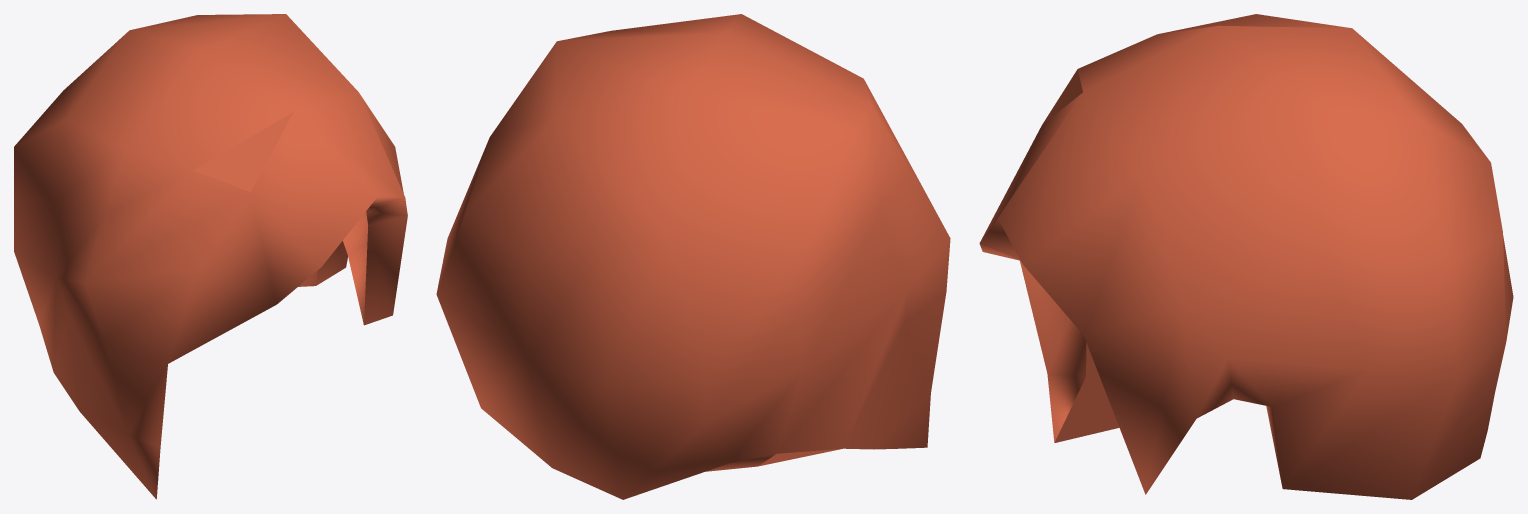
The model's file is HairKarenGinger.fbx.
3 renders of one model, left to right at view 1: azimuth 30°, elevation 25°; view 2: azimuth 150°, elevation 25°; view 3: azimuth 270°, elevation 25°, orthographic. The views are drawn at different scales.
Visible parts, largest first — view 1: HairKarenGinger; view 2: HairKarenGinger; view 3: HairKarenGinger.
Boxes of the visible parts, x1,y1,x2,y2 form: HairKarenGinger: (14, 14, 407, 499); HairKarenGinger: (436, 14, 950, 499); HairKarenGinger: (979, 14, 1513, 499).
Size of the model in its own units: 55.77 by 59.13 by 58.89.
